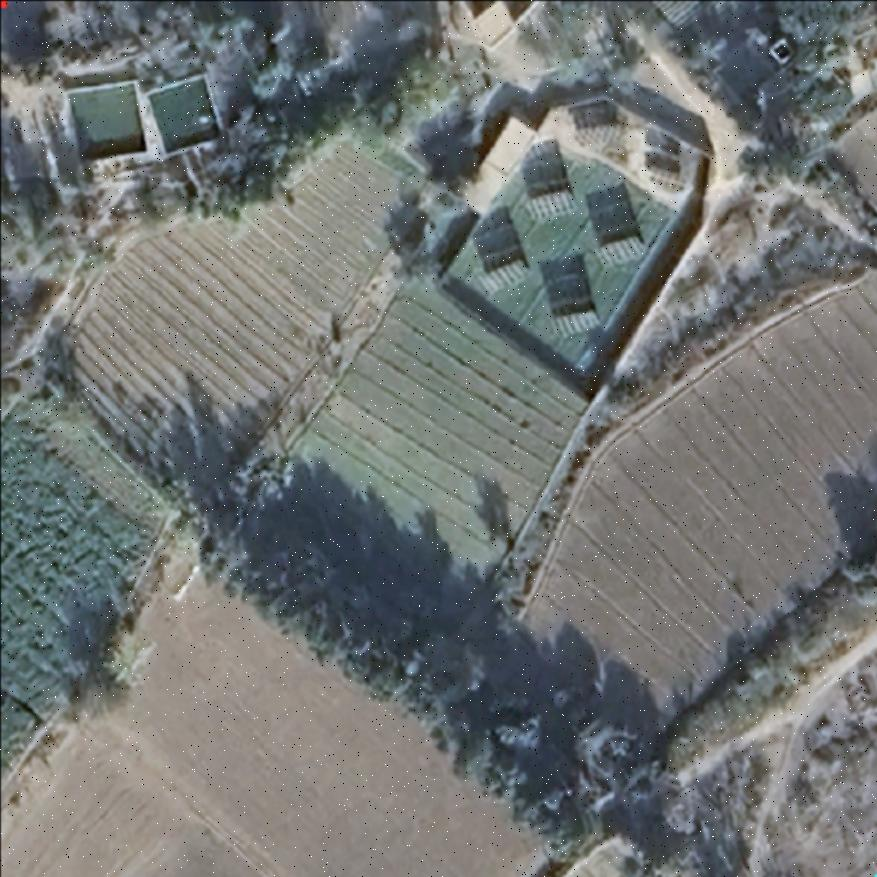Solarpanel: (477, 259, 533, 300), (521, 188, 578, 224), (544, 309, 606, 339), (596, 234, 647, 268), (574, 119, 624, 147), (645, 165, 686, 193)
